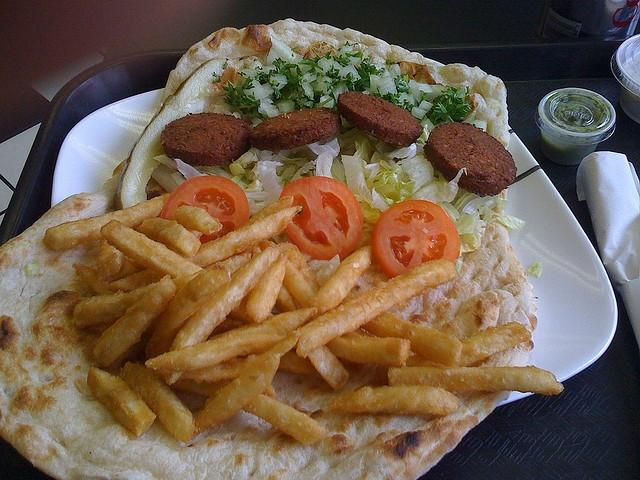lettuce: (406, 168, 468, 204), (341, 155, 373, 205), (398, 155, 434, 195), (257, 160, 284, 206), (375, 180, 416, 208), (151, 163, 186, 193), (366, 166, 401, 194), (462, 196, 498, 214), (330, 156, 348, 188), (352, 138, 372, 164), (280, 156, 309, 167), (251, 162, 262, 182)
onion: (270, 34, 296, 61), (244, 80, 274, 100), (374, 76, 398, 96), (246, 60, 276, 74), (332, 80, 349, 104), (337, 64, 361, 81), (394, 92, 414, 111), (369, 74, 382, 95), (316, 56, 331, 74), (278, 100, 296, 114), (240, 69, 262, 80), (315, 82, 333, 95), (328, 59, 343, 74), (411, 106, 427, 120), (302, 82, 314, 100), (319, 95, 334, 109), (421, 118, 435, 132), (270, 74, 288, 84), (432, 85, 448, 96), (417, 83, 433, 93), (474, 120, 487, 132), (265, 108, 279, 118), (348, 55, 360, 66), (389, 64, 402, 74), (424, 94, 438, 102), (343, 44, 354, 52), (322, 76, 333, 83), (362, 90, 371, 95), (408, 88, 412, 94)
tomato: (278, 176, 364, 260), (372, 200, 460, 278), (161, 176, 249, 244)
